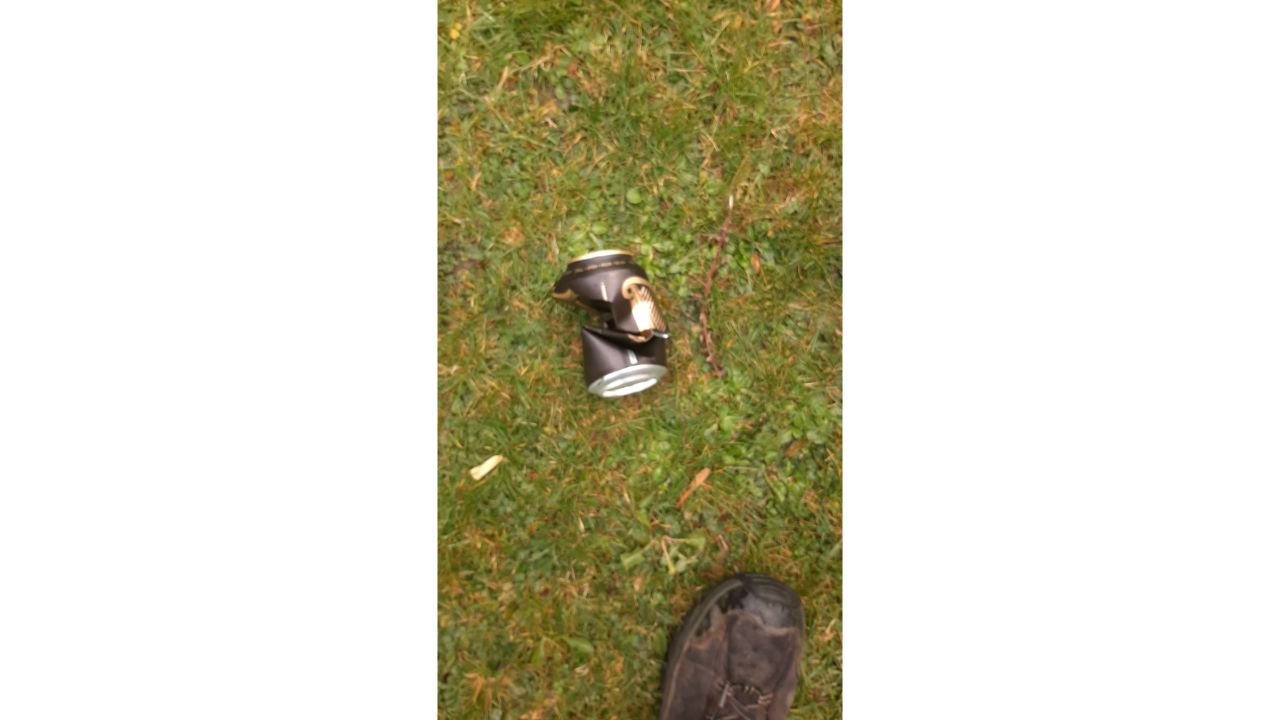Can: (550, 248, 668, 401)
